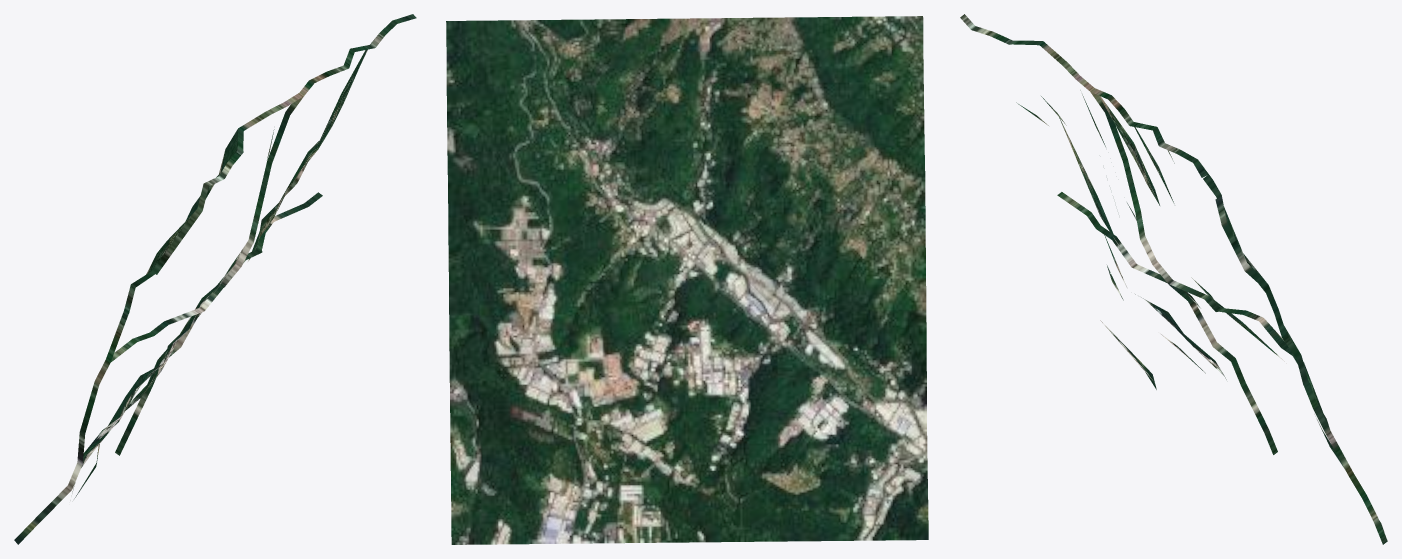
3 renders of one model, left to right at view 1: azimuth 30°, elevation 25°; view 2: azimuth 150°, elevation 25°; view 3: azimuth 270°, elevation 25°, orthographic. The views are drawn at different scales.
Size of the model in its own units: 2450 by 2285 by 2080.
Materials: 1 (1 with a texture image).
